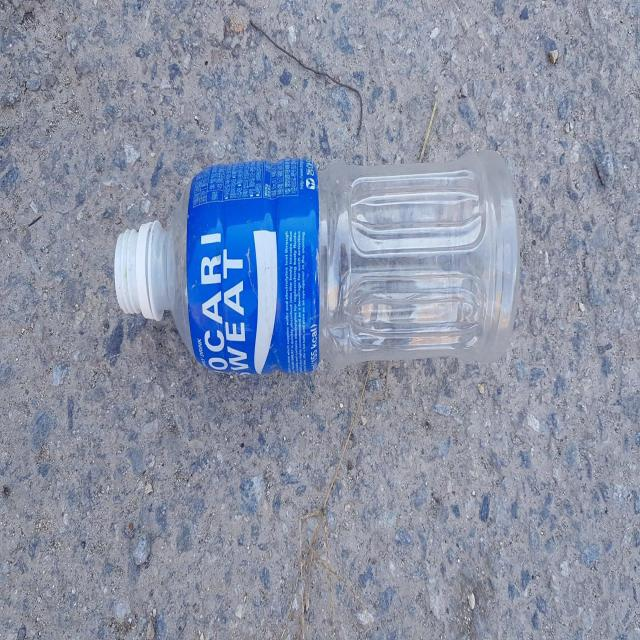plastic: (114, 151, 520, 374)
